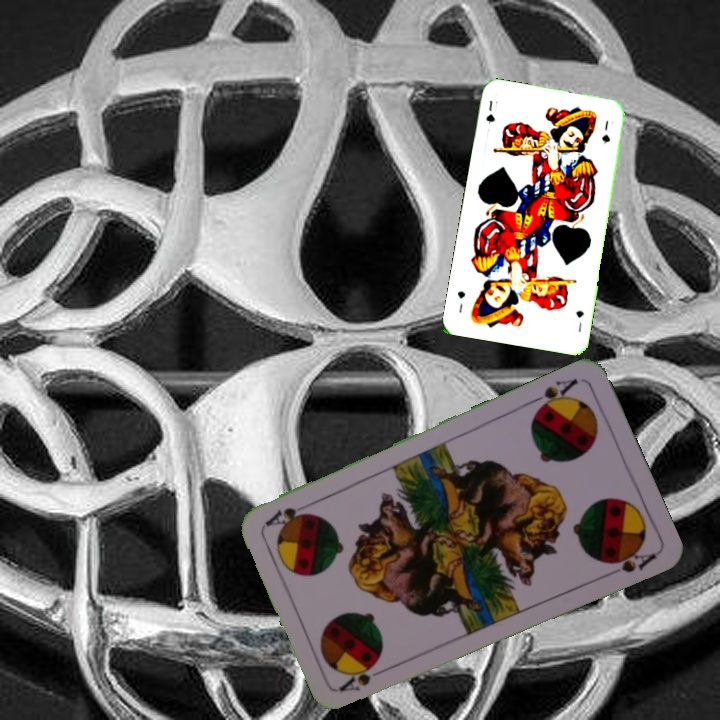GU: (482, 96, 497, 126), (572, 306, 586, 335)
SA: (526, 374, 581, 416), (336, 660, 392, 694)
